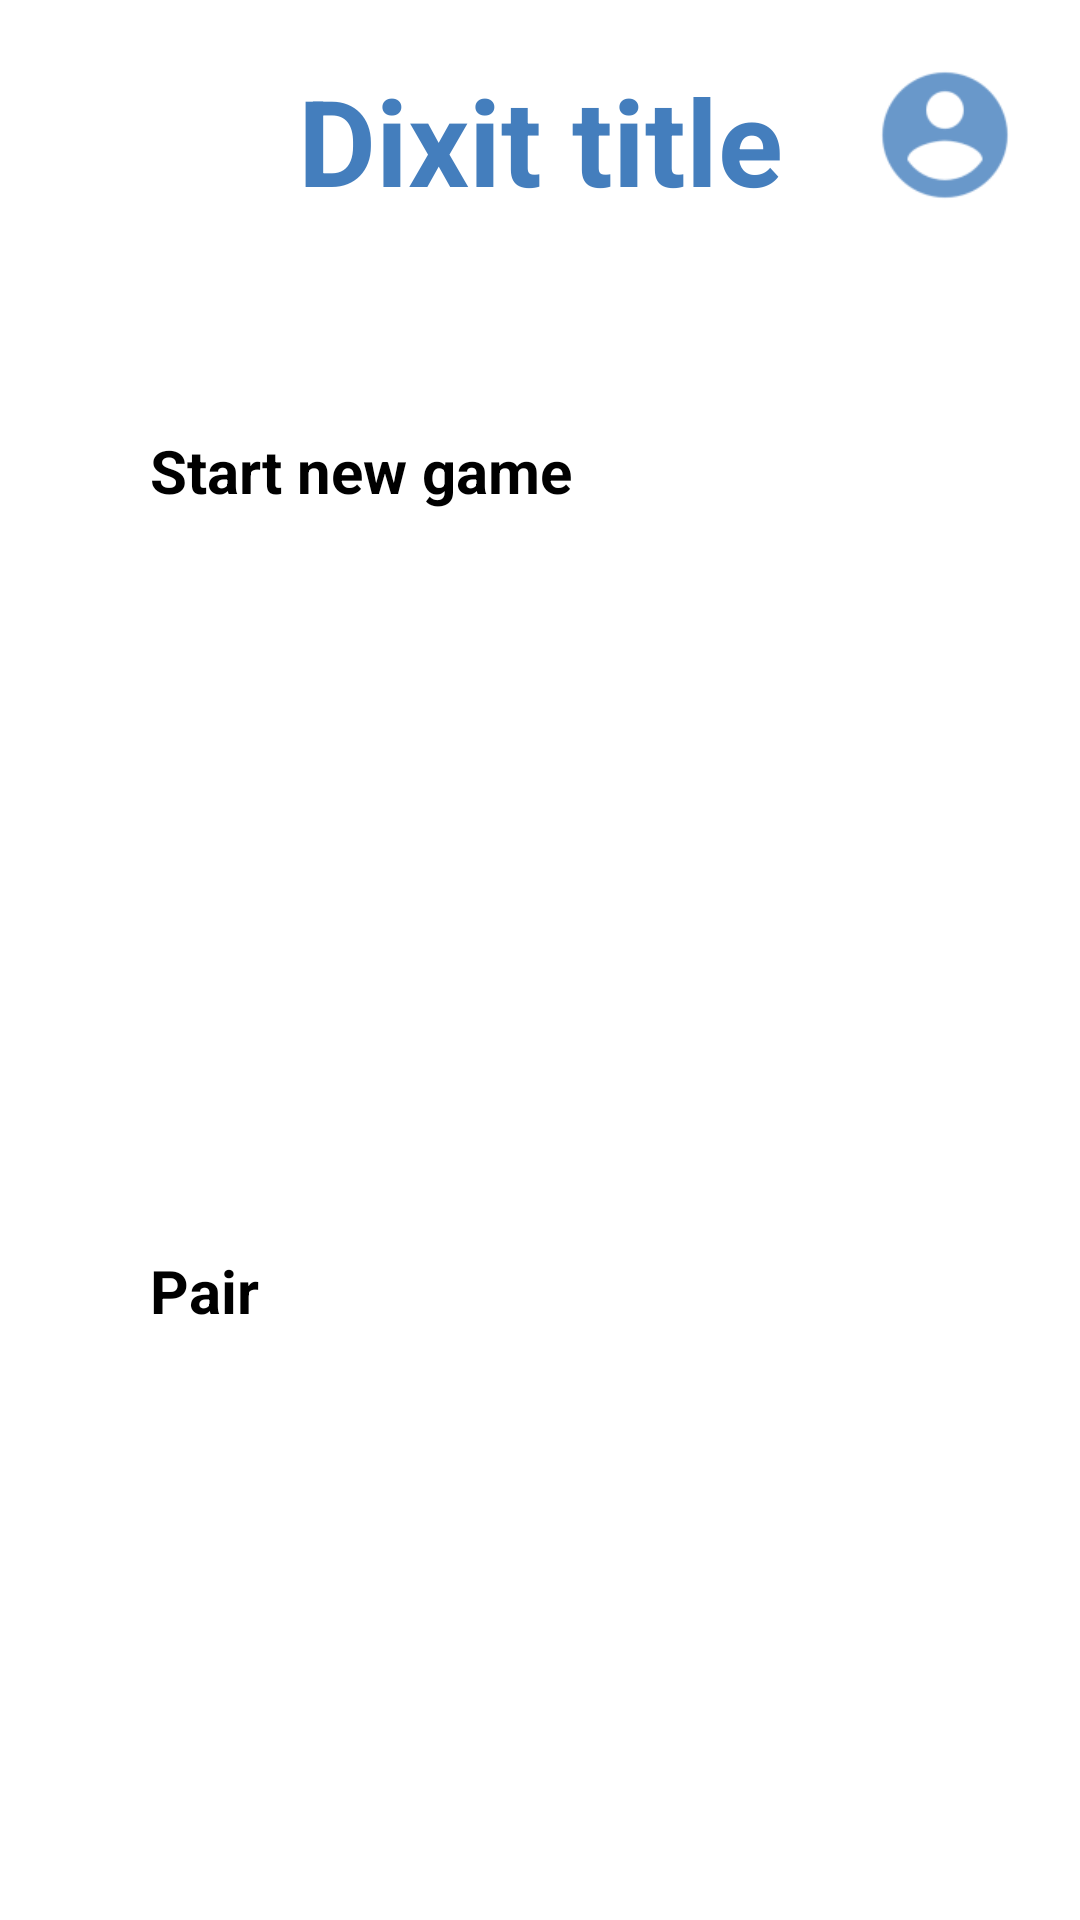

Where to tap for icons on this 1080 × 1920 app screen, as [x,y]:
user data: [945,135]
